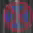No Stopping: (2, 0, 31, 32)
